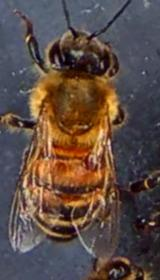varroa_mite: (78, 147, 104, 182)
